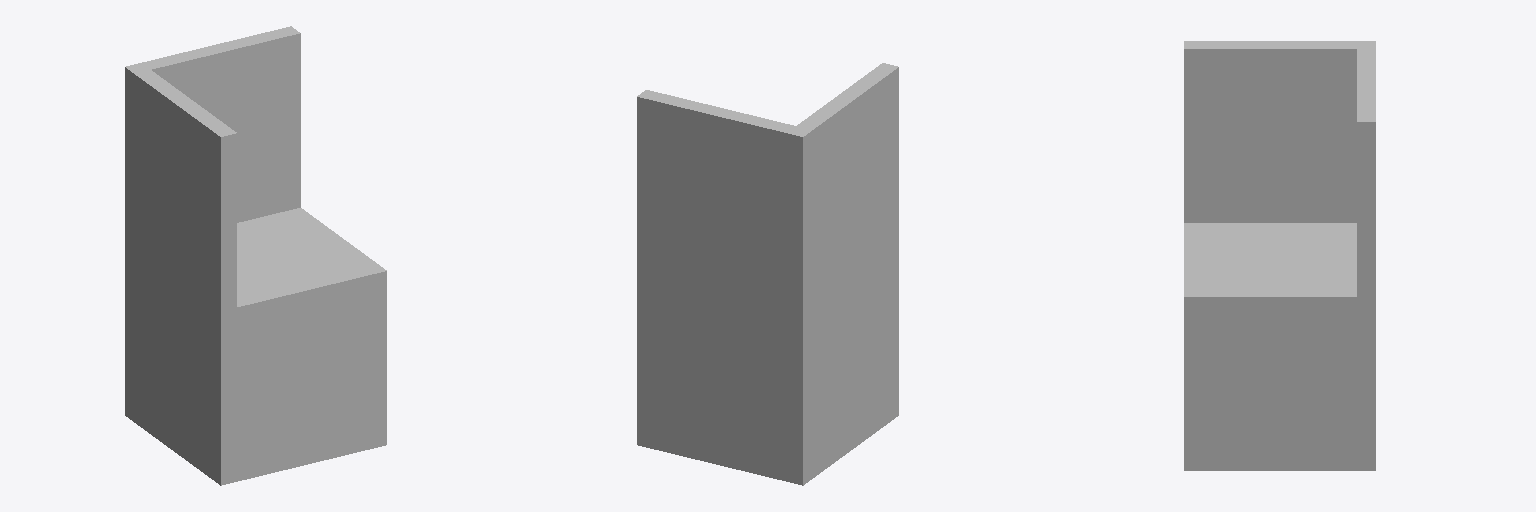
File: tiles_floor_corner.obj
The picture shows the model from 3 angles: view 1: azimuth 30°, elevation 25°; view 2: azimuth 150°, elevation 25°; view 3: azimuth 270°, elevation 25°; orthographic projection.
Visible parts, largest first — view 1: Floor_Corner_Cube.007; view 2: Floor_Corner_Cube.007; view 3: Floor_Corner_Cube.007.
Part boxes in pixels (x1,y1,x2,y2): Floor_Corner_Cube.007: (125,26,386,485); Floor_Corner_Cube.007: (637,63,898,485); Floor_Corner_Cube.007: (1184,41,1375,470).
Size of the model in its own units: 2 by 4 by 2.